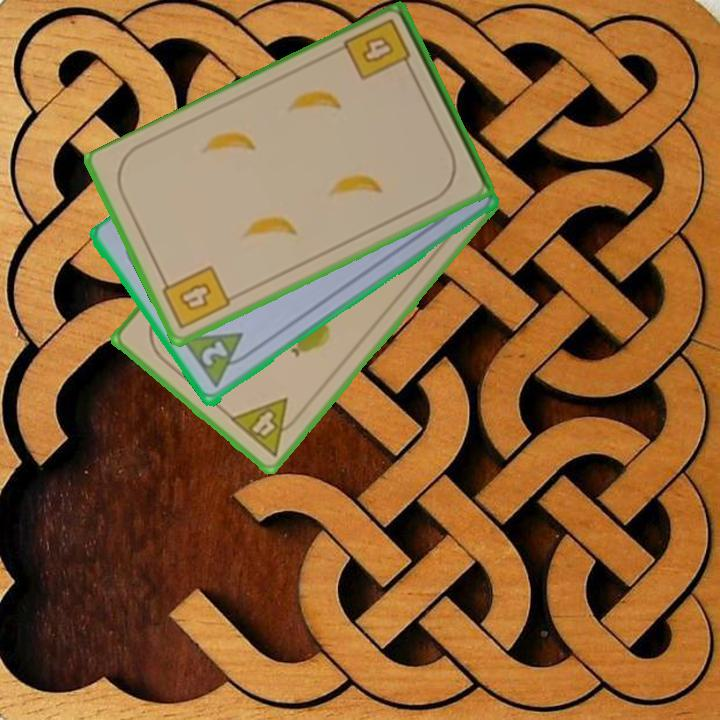2p: (179, 329, 258, 392)
4b: (157, 262, 234, 333), (341, 15, 417, 84)
4p: (226, 394, 307, 460)
